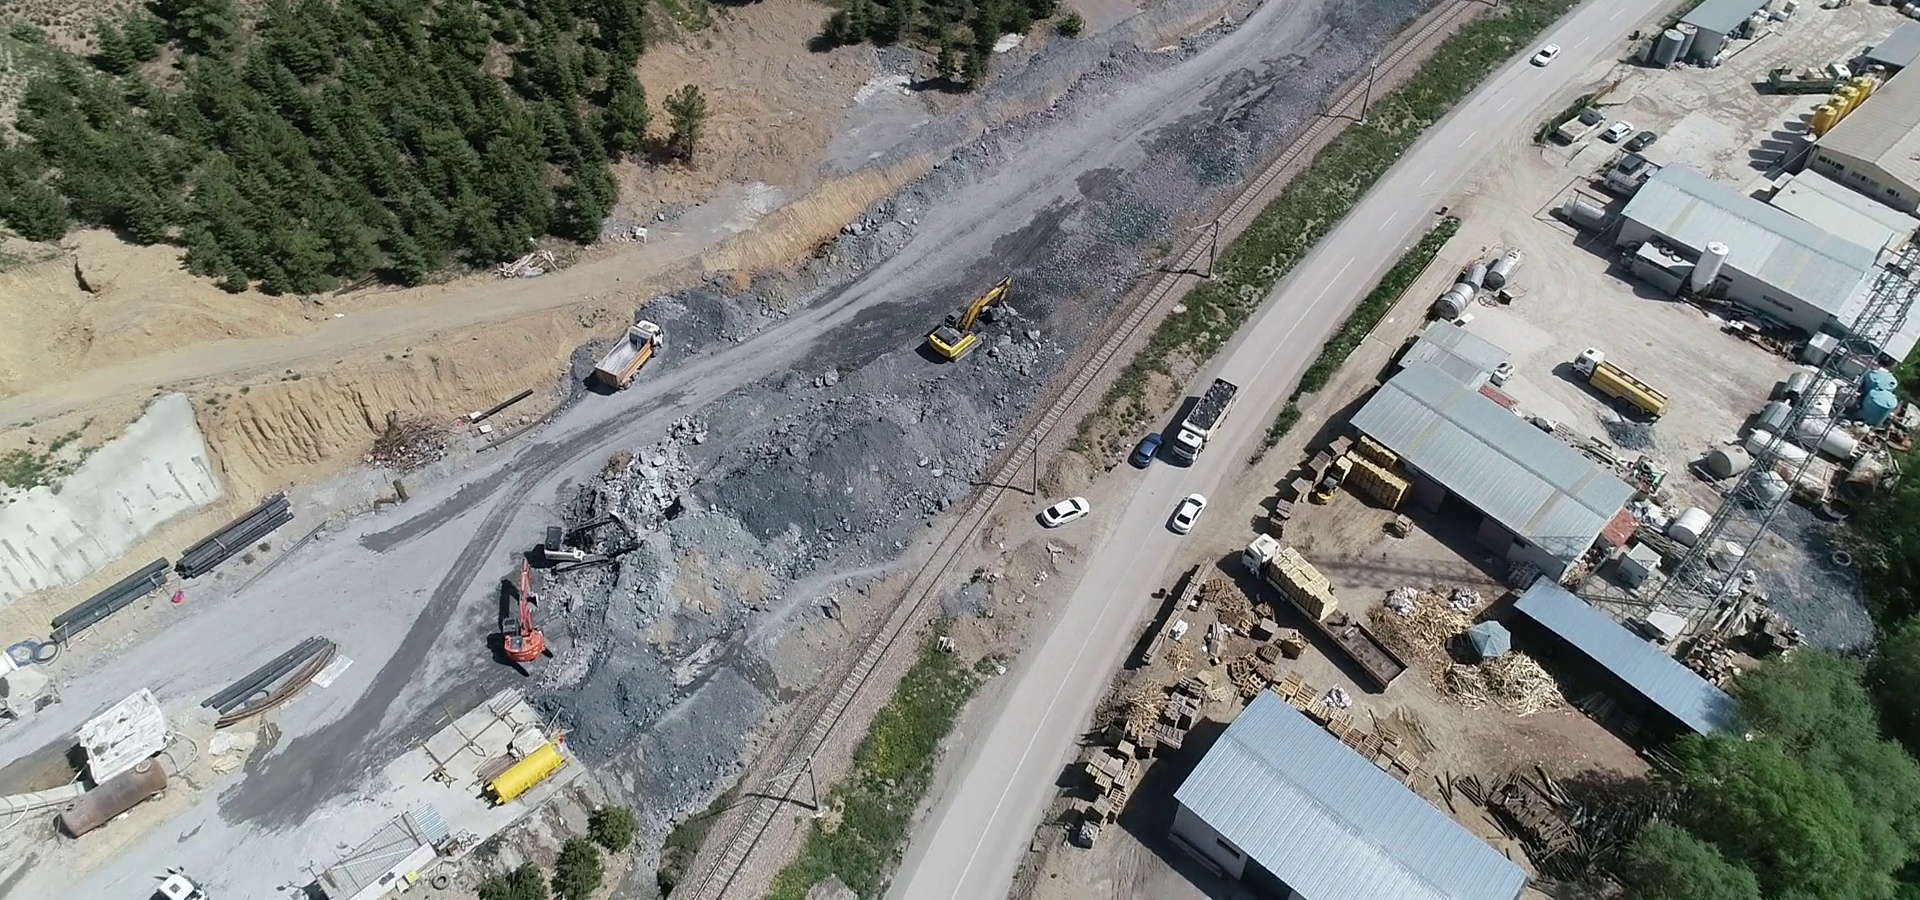araba: (1029, 498, 1082, 541), (1166, 489, 1206, 544), (1127, 437, 1162, 482), (1531, 36, 1566, 76)
ismakinasi: (527, 496, 644, 578), (929, 293, 1029, 369), (491, 567, 558, 667)
kamyon: (1239, 525, 1416, 691), (1569, 338, 1669, 427), (585, 311, 665, 399), (1176, 366, 1243, 467), (1760, 54, 1862, 102)
